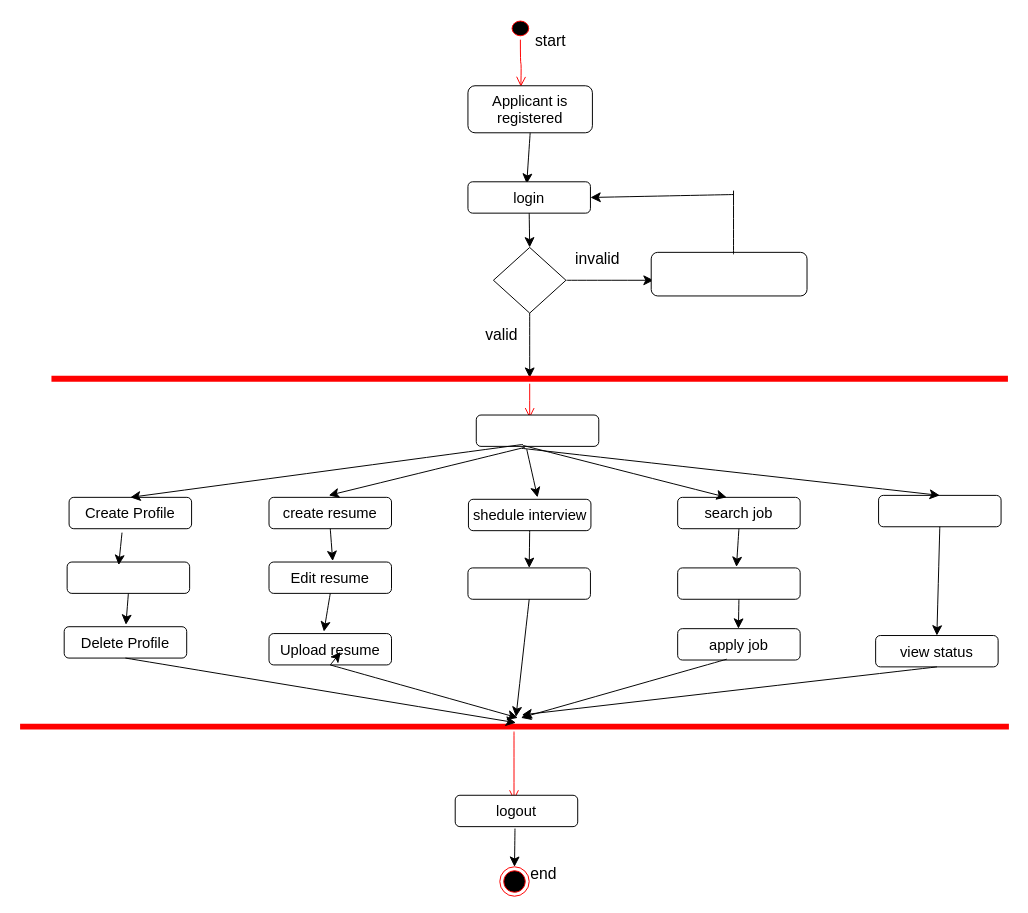
Some shapes in this 1028 by 913 pixel diagram are drawn without their labels. The centre of each missing label's shape, as x and y in pixels:
Applicant: (537,430)
Get feedback: (528,583)
Modify Profile: (128,577)
Re-entered username and password: (728,273)
view applied job: (939,510)
view job: (738,583)
